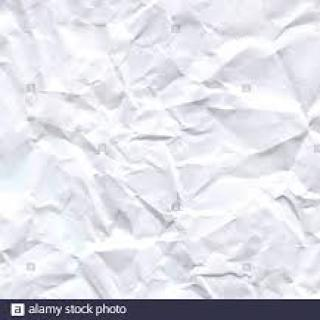PAPER: (0, 0, 319, 298)
